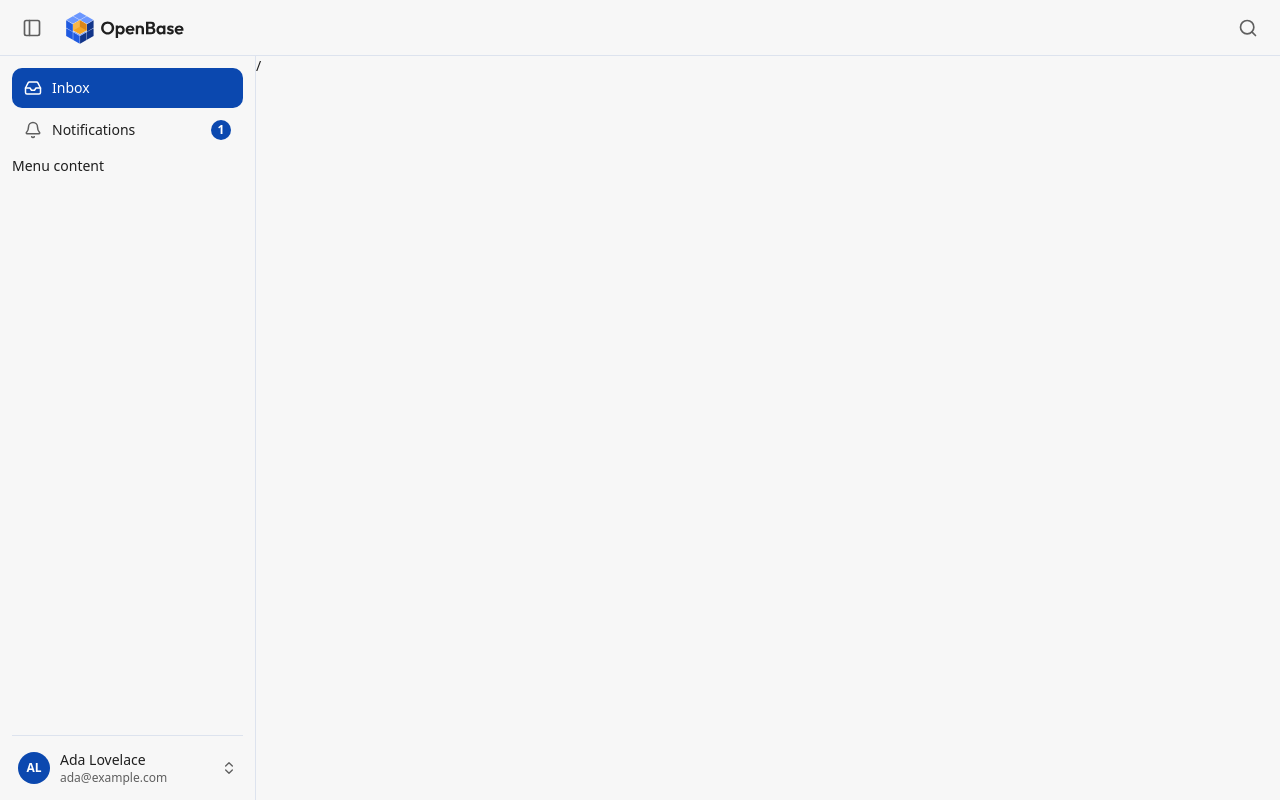
Scenario: Notifications in the docked menu › gives the person who mentioned you the face they have everywhere else
The width and height of the screenshot is (1280, 800).
Click the button "Notifications 1" at (128, 130), box x1=12 y1=110 x2=243 y2=150
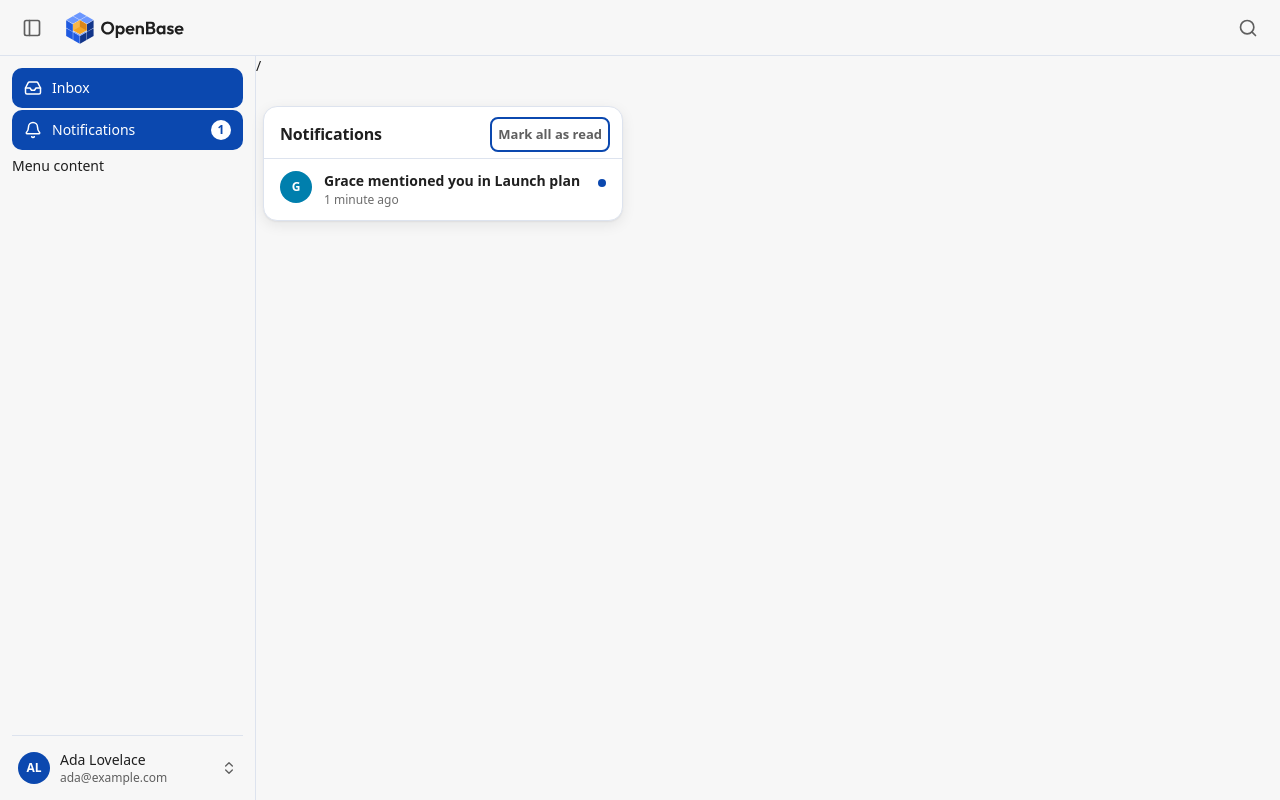
Result: the text "Grace mentioned you in Launch plan" is shown at x1=324 y1=171 x2=582 y2=190
